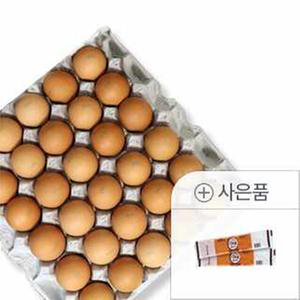egg: (1, 45, 205, 300)
